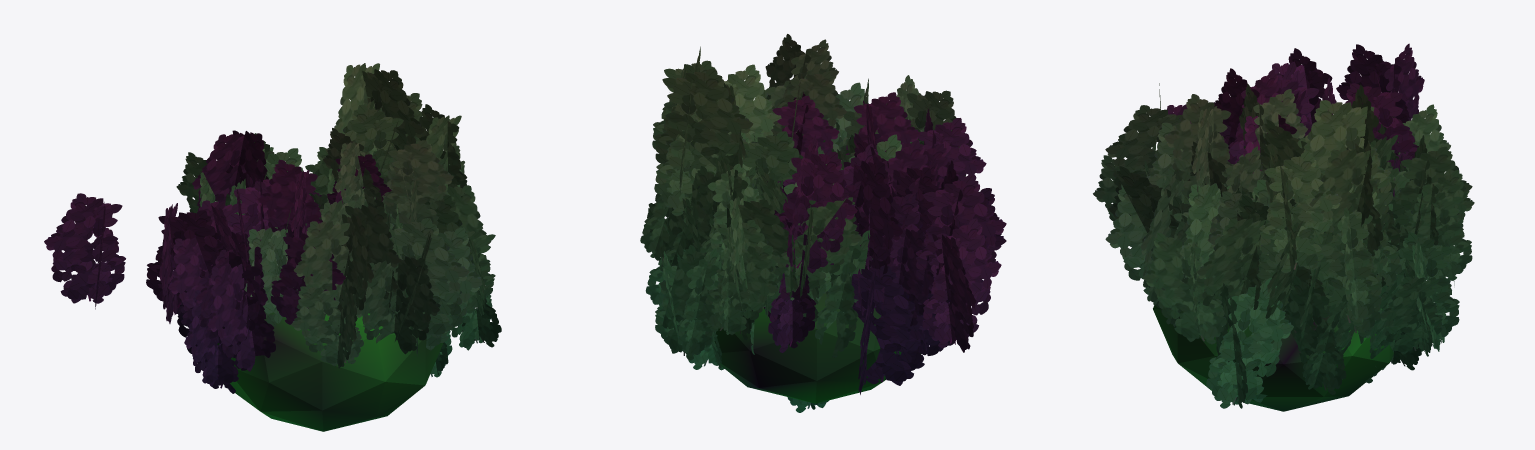
The model's file is nat_bush_green_a_LOD0.glb.
3 renders of one model, left to right at view 1: azimuth 30°, elevation 25°; view 2: azimuth 150°, elevation 25°; view 3: azimuth 270°, elevation 25°, orthographic. The views are drawn at different scales.
Parts seen in each view (by area): view 1: geometry_0; view 2: geometry_0; view 3: geometry_0.
Boxes of the visible parts, left/top/right/bottom form: geometry_0: left=44, top=63, right=501, bottom=431; geometry_0: left=640, top=34, right=1006, bottom=412; geometry_0: left=1093, top=43, right=1474, bottom=411.
Bounding box in the file's own units: 1.52 × 1.08 × 1.25.
Materials: 1 (1 with a texture image).
